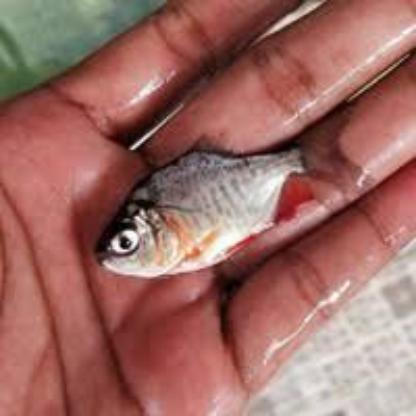ikan-pacu: (95, 130, 328, 278)
